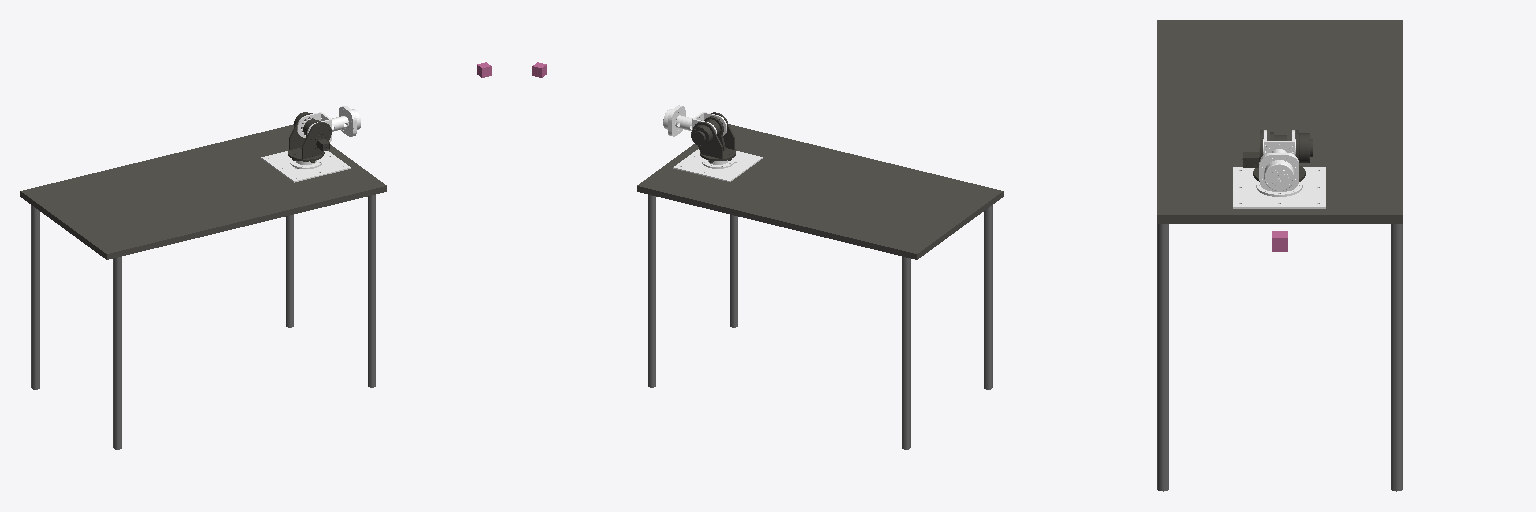
The robot description file, URDF, robot "daadbot":
<?xml version='1.0' encoding='utf-8'?>
<robot name="daadbot">
  <gazebo>
    <plugin filename="gz_ros2_control-system" name="gz_ros2_control::GazeboSimROS2ControlPlugin">
      <parameters>/home/maryammahmood/daadbot_manipulator_ws/install/daadbot_controller/share/daadbot_controller/config/pos_trajectory_controller.yaml</parameters>
    </plugin>
    <plugin filename="ignition-gazebo-forcetorque-system" name="ignition::gazebo::systems::ForceTorque">
            </plugin>
  </gazebo>
  <ros2_control name="Manipulator" type="system">
    <hardware>
      <plugin>gz_ros2_control/GazeboSimSystem</plugin>
    </hardware>
    <joint name="joint_1">
      <command_interface name="position">
        <param name="min">-0.1</param>
        <param name="max">3.2</param>
      </command_interface>
      <state_interface name="position" />
      <state_interface name="velocity" />
      <state_interface name="effort" />
    </joint>
    <joint name="joint_2">
      <command_interface name="position">
        <param name="min">-3.307</param>
        <param name="max">0.5236</param>
      </command_interface>
      <state_interface name="position" />
      <state_interface name="velocity" />
      <state_interface name="effort" />
    </joint>
  </ros2_control>
  <link name="table_top">
    <visual>
      <origin xyz="0 0 1.0" />
      <geometry>
        <box size="1.5 0.8 0.03" />
      </geometry>
      <material name="">
        <color rgba="0.388 0.376 0.357 1" />
      </material>
    </visual>
    <collision>
      <origin xyz="0 0 1.0" />
      <geometry>
        <box size="1.5 0.8 0.03" />
      </geometry>
    </collision>
    <inertial>
      <origin xyz="0 0 1.0" />
      <mass value="5.0" />
      <inertia ixx="0.1" ixy="0" ixz="0" iyy="0.1" iyz="0" izz="0.1" />
    </inertial>
  </link>
  <gazebo reference="table_top">
    <static>true</static>
    <surface>
      <contact>
        <ode>
          <kp>100000.0</kp>
          <kd>1000.0</kd>
        </ode>
      </contact>
      <friction>
        <ode>
          <mu>1.0</mu>
          <mu2>1.0</mu2>
        </ode>
      </friction>
    </surface>
  </gazebo>
  <link name="front_left_leg">
    <visual>
      <origin xyz="0 0 0.5" />
      <geometry>
        <cylinder length="1.0" radius="0.02" />
      </geometry>
      <material name="">
        <color rgba="0.5 0.5 0.5 1" />
      </material>
    </visual>
    <collision>
      <origin xyz="0 0 0.5" />
      <geometry>
        <cylinder length="1.0" radius="0.02" />
      </geometry>
    </collision>
    <inertial>
      <origin xyz="0 0 0.5" />
      <mass value="1.0" />
      <inertia ixx="0.01" ixy="0" ixz="0" iyy="0.01" iyz="0" izz="0.01" />
    </inertial>
  </link>
  <joint name="front_left_leg_joint" type="fixed">
    <parent link="table_top" />
    <child link="front_left_leg" />
    <origin xyz="0.68 0.38 0.0" />
  </joint>
  <link name="front_right_leg">
    <visual>
      <origin xyz="0 0 0.5" />
      <geometry>
        <cylinder length="1.0" radius="0.02" />
      </geometry>
      <material name="">
        <color rgba="0.5 0.5 0.5 1" />
      </material>
    </visual>
    <collision>
      <origin xyz="0 0 0.5" />
      <geometry>
        <cylinder length="1.0" radius="0.02" />
      </geometry>
    </collision>
    <inertial>
      <origin xyz="0 0 0.5" />
      <mass value="1.0" />
      <inertia ixx="0.01" ixy="0" ixz="0" iyy="0.01" iyz="0" izz="0.01" />
    </inertial>
  </link>
  <joint name="front_right_leg_joint" type="fixed">
    <parent link="table_top" />
    <child link="front_right_leg" />
    <origin xyz="0.68 -0.38 0.0" />
  </joint>
  <link name="back_left_leg">
    <visual>
      <origin xyz="0 0 0.5" />
      <geometry>
        <cylinder length="1.0" radius="0.02" />
      </geometry>
      <material name="">
        <color rgba="0.5 0.5 0.5 1" />
      </material>
    </visual>
    <collision>
      <origin xyz="0 0 0.5" />
      <geometry>
        <cylinder length="1.0" radius="0.02" />
      </geometry>
    </collision>
    <inertial>
      <origin xyz="0 0 0.5" />
      <mass value="1.0" />
      <inertia ixx="0.01" ixy="0" ixz="0" iyy="0.01" iyz="0" izz="0.01" />
    </inertial>
  </link>
  <joint name="back_left_leg_joint" type="fixed">
    <parent link="table_top" />
    <child link="back_left_leg" />
    <origin xyz="-0.68 0.38 0.0" />
  </joint>
  <link name="back_right_leg">
    <visual>
      <origin xyz="0 0 0.5" />
      <geometry>
        <cylinder length="1.0" radius="0.02" />
      </geometry>
      <material name="">
        <color rgba="0.5 0.5 0.5 1" />
      </material>
    </visual>
    <collision>
      <origin xyz="0 0 0.5" />
      <geometry>
        <cylinder length="1.0" radius="0.02" />
      </geometry>
    </collision>
    <inertial>
      <origin xyz="0 0 0.5" />
      <mass value="1.0" />
      <inertia ixx="0.01" ixy="0" ixz="0" iyy="0.01" iyz="0" izz="0.01" />
    </inertial>
  </link>
  <joint name="back_right_leg_joint" type="fixed">
    <parent link="table_top" />
    <child link="back_right_leg" />
    <origin xyz="-0.68 -0.38 0.0" />
  </joint>
  <link name="world" />
  <joint name="table_joint" type="fixed">
    <parent link="world" />
    <child link="table_top" />
    <origin rpy="0 0 0" xyz="0 0 0" />
  </joint>
  <link name="camera_link">
    <visual>
      <geometry>
        <box size="0.05 0.05 0.05" />
      </geometry>
      <material name="" />
    </visual>
  </link>
  <joint name="camera_joint" type="fixed">
    <parent link="table_top" />
    <child link="camera_link" />
    <origin rpy="0 0 0" xyz="1.5 0.0 1.27" />
  </joint>
  <joint name="base_joint" type="fixed">
    <parent link="table_top" />
    <child link="base_link" />
    <origin rpy="0 0 0" xyz="0.55 0 1.017" />
  </joint>
  <link name="base_link">
    <inertial>
      <origin rpy="0 0 0" xyz="-0.00246645540256236 -0.00131466478904116 0.00320374562257973" />
      <mass value="6.91122989464636" />
      <inertia ixx="0.0466171750852481" ixy="0.00010076855342015" ixz="5.14819747192778E-08" iyy="0.0464821203083076" iyz="-1.44621889265211E-07" izz="0.0929840869855057" />
    </inertial>
    <visual>
      <origin rpy="0 0 0" xyz="0 0 0" />
      <geometry>
        <mesh filename="package://daadbot_desc/meshes/base_link.STL" />
      </geometry>
      <material name="">
        <color rgba="1 1 1 1" />
      </material>
    </visual>
    <collision>
      <origin rpy="0 0 0" xyz="0 0 0" />
      <geometry>
        <mesh filename="package://daadbot_desc/meshes/base_link.STL" />
      </geometry>
    </collision>
  </link>
  <link name="Link_1">
    <inertial>
      <origin rpy="0 0 0" xyz="0.0222146013900772 2.73568109690481E-06 0.0747841784291177" />
      <mass value="2.34948803406793" />
      <inertia ixx="0.00332922517000865" ixy="1.64875308454708E-07" ixz="-0.000433929392474112" iyy="0.00524724735039028" iyz="2.38505609352415E-07" izz="0.00419520671173006" />
    </inertial>
    <visual>
      <origin rpy="0 0 0" xyz="0 0 0" />
      <geometry>
        <mesh filename="package://daadbot_desc/meshes/Link_1.STL" />
      </geometry>
      <material name="">
        <color rgba="0.329 0.322 0.302 1" />
      </material>
    </visual>
    <collision>
      <origin rpy="0 0 0" xyz="0 0 0" />
      <geometry>
        <mesh filename="package://daadbot_desc/meshes/Link_1.STL" />
      </geometry>
    </collision>
  </link>
  <joint name="joint_1" type="revolute">
    <origin rpy="0 0 0" xyz="-0.0029638 -0.0015759 0.04796" />
    <parent link="base_link" />
    <child link="Link_1" />
    <axis xyz="0 0 -1" />
    <limit effort="200.0" lower="-0.1" upper="3.2" velocity="12.776" />
  </joint>
  <link name="daadbot/joint_1/tcp_fts_sensor_joint_1" />
  <joint name="tcp_fts_joint_1" type="fixed">
    <parent link="base_link" />
    <child link="daadbot/joint_1/tcp_fts_sensor_joint_1" />
    <origin rpy="0 0 0" xyz="-0.0029638 -0.0015759 0.04796" />
  </joint>
  <gazebo reference="joint_1">
    <sensor name="tcp_fts_sensor_joint_1" type="force_torque">
      <always_on>true</always_on>
      <update_rate>1000</update_rate>
      <visualize>true</visualize>
      <force_torque>
        <frame>child</frame>
        <measure_direction>child_to_parent</measure_direction>
      </force_torque>
      <pose>0 0 0 0 0 0</pose>
    </sensor>
  </gazebo>
  <link name="Link_2">
    <inertial>
      <origin rpy="0 0 0" xyz="0.121210588587965 0.000230649813345946 -0.049540637756618" />
      <mass value="2.24401700155026" />
      <inertia ixx="0.00250860362" ixy="-1.95804141e-05" ixz="1.06350024e-06" iyy="0.00852523380" iyz="4.22077320e-07" izz="0.00807927033" />
    </inertial>
    <visual>
      <origin rpy="0 0 0" xyz="0 0 0" />
      <geometry>
        <mesh filename="package://daadbot_desc/meshes/Link_2.STL" />
      </geometry>
      <material name="">
        <color rgba="1 1 1 1" />
      </material>
    </visual>
    <collision>
      <origin rpy="0 0 0" xyz="0 0 0" />
      <geometry>
        <mesh filename="package://daadbot_desc/meshes/Link_2.STL" />
      </geometry>
    </collision>
  </link>
  <joint name="joint_2" type="revolute">
    <origin rpy="1.5707963267949 0 0" xyz="0.0400000000000002 -0.050000000000002 0.114463048454132" />
    <parent link="Link_1" />
    <child link="Link_2" />
    <axis xyz="0 0 -1" />
    <limit effort="200.0" lower="-3.307" upper="0.5236" velocity="12.776" />
    <sensor name="force_torque" type="force_torque">
      <update_rate>30</update_rate>
    </sensor>
  </joint>
  <link name="daadbot/joint_2/tcp_fts_sensor_joint_2" />
  <joint name="tcp_fts_joint_2" type="fixed">
    <parent link="Link_1" />
    <child link="daadbot/joint_2/tcp_fts_sensor_joint_2" />
    <origin rpy="1.5707963267949 0 0" xyz="0.04 -0.05 0.114463048454132" />
  </joint>
  <gazebo reference="joint_2">
    <sensor name="tcp_fts_sensor_joint_2" type="force_torque">
      <always_on>true</always_on>
      <update_rate>100</update_rate>
      <visualize>false</visualize>
      <force_torque>
        <frame>child</frame>
        <measure_direction>child_to_parent</measure_direction>
      </force_torque>
      <pose>0 0 0 0 0 0</pose>
    </sensor>
  </gazebo>
</robot>

--- What the picture shows (computed from the rendered views, not written in the file) ---
Views: 3 orthographic renders of the robot side by side, from view 1: azimuth 30°, elevation 25°; view 2: azimuth 150°, elevation 25°; view 3: azimuth 270°, elevation 25°.
Robot: daadbot — 12 links, 11 joints (2 revolute, 9 fixed); root link world; default pose: all joints at 0.
Visible links, largest first — view 1: table_top, back_right_leg, back_left_leg, front_right_leg, Link_1, base_link, Link_2, front_left_leg; view 2: table_top, back_left_leg, back_right_leg, front_left_leg, Link_1, base_link, front_right_leg, Link_2; view 3: table_top, front_left_leg, front_right_leg, base_link, Link_2, Link_1.
Boxes of the visible links, <box> form: table_top: <box>20,124,386,259</box>; back_right_leg: <box>113,257,121,449</box>; back_left_leg: <box>31,205,39,389</box>; front_right_leg: <box>368,195,375,387</box>; Link_1: <box>288,112,331,162</box>; base_link: <box>261,151,350,182</box>; Link_2: <box>297,106,360,141</box>; front_left_leg: <box>286,215,293,327</box>; table_top: <box>637,124,1003,259</box>; back_left_leg: <box>902,257,910,449</box>; back_right_leg: <box>984,205,992,389</box>; front_left_leg: <box>648,195,655,387</box>; Link_1: <box>691,112,735,162</box>; base_link: <box>673,149,762,181</box>; front_right_leg: <box>730,215,737,327</box>; Link_2: <box>663,105,726,140</box>; table_top: <box>1157,20,1402,223</box>; front_left_leg: <box>1391,224,1402,491</box>; front_right_leg: <box>1157,224,1168,491</box>; base_link: <box>1233,167,1325,208</box>; Link_2: <box>1259,130,1298,191</box>; Link_1: <box>1242,130,1312,181</box>.
Size in the robot's own frame: 2.27 by 0.8 by 1.29 metres.
Meshes: 3 distinct files referenced, 3 mesh visuals loaded (3 binary STL).
